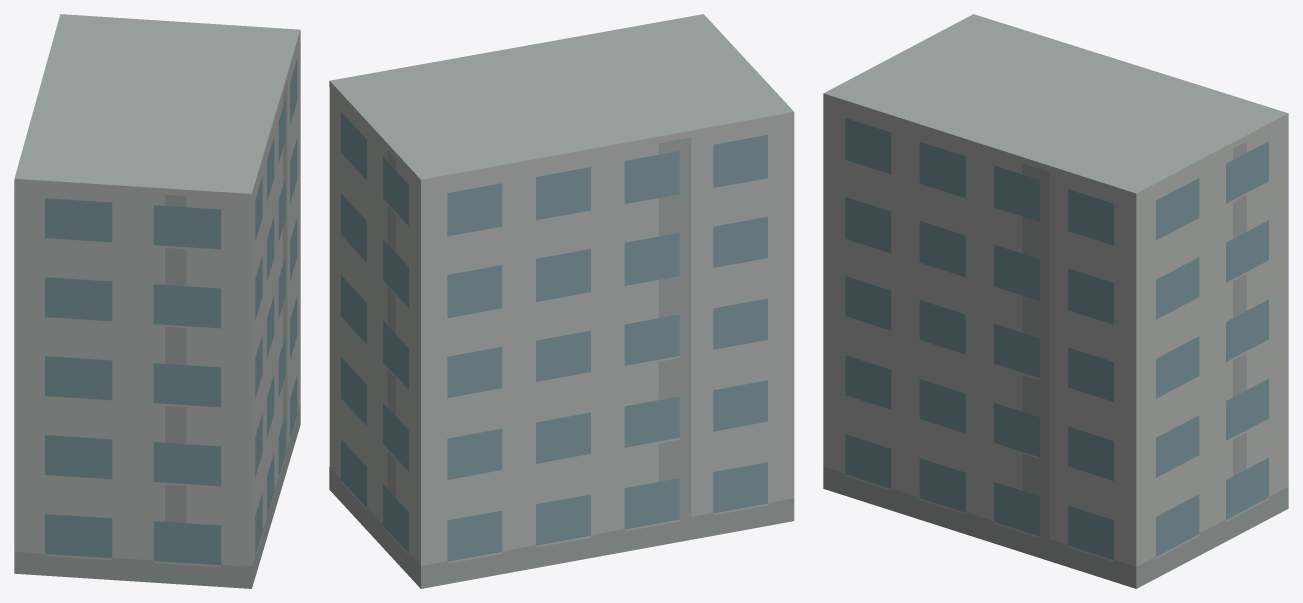
The model's file is survey-upis-32631563.glb.
3 views of the same model, side by side, from view 1: azimuth 30°, elevation 25°; view 2: azimuth 150°, elevation 25°; view 3: azimuth 270°, elevation 25° (orthographic). The views are drawn at different scales.
Visible parts, largest first — view 1: survey-upis-32631563.tmp; view 2: survey-upis-32631563.tmp; view 3: survey-upis-32631563.tmp.
Part boxes in pixels (left/top/right/bottom): survey-upis-32631563.tmp: left=14, top=14, right=300, bottom=588; survey-upis-32631563.tmp: left=329, top=14, right=794, bottom=588; survey-upis-32631563.tmp: left=823, top=14, right=1288, bottom=588.
Bounding box in the file's own units: 14.86 × 15.25 × 16.26.
